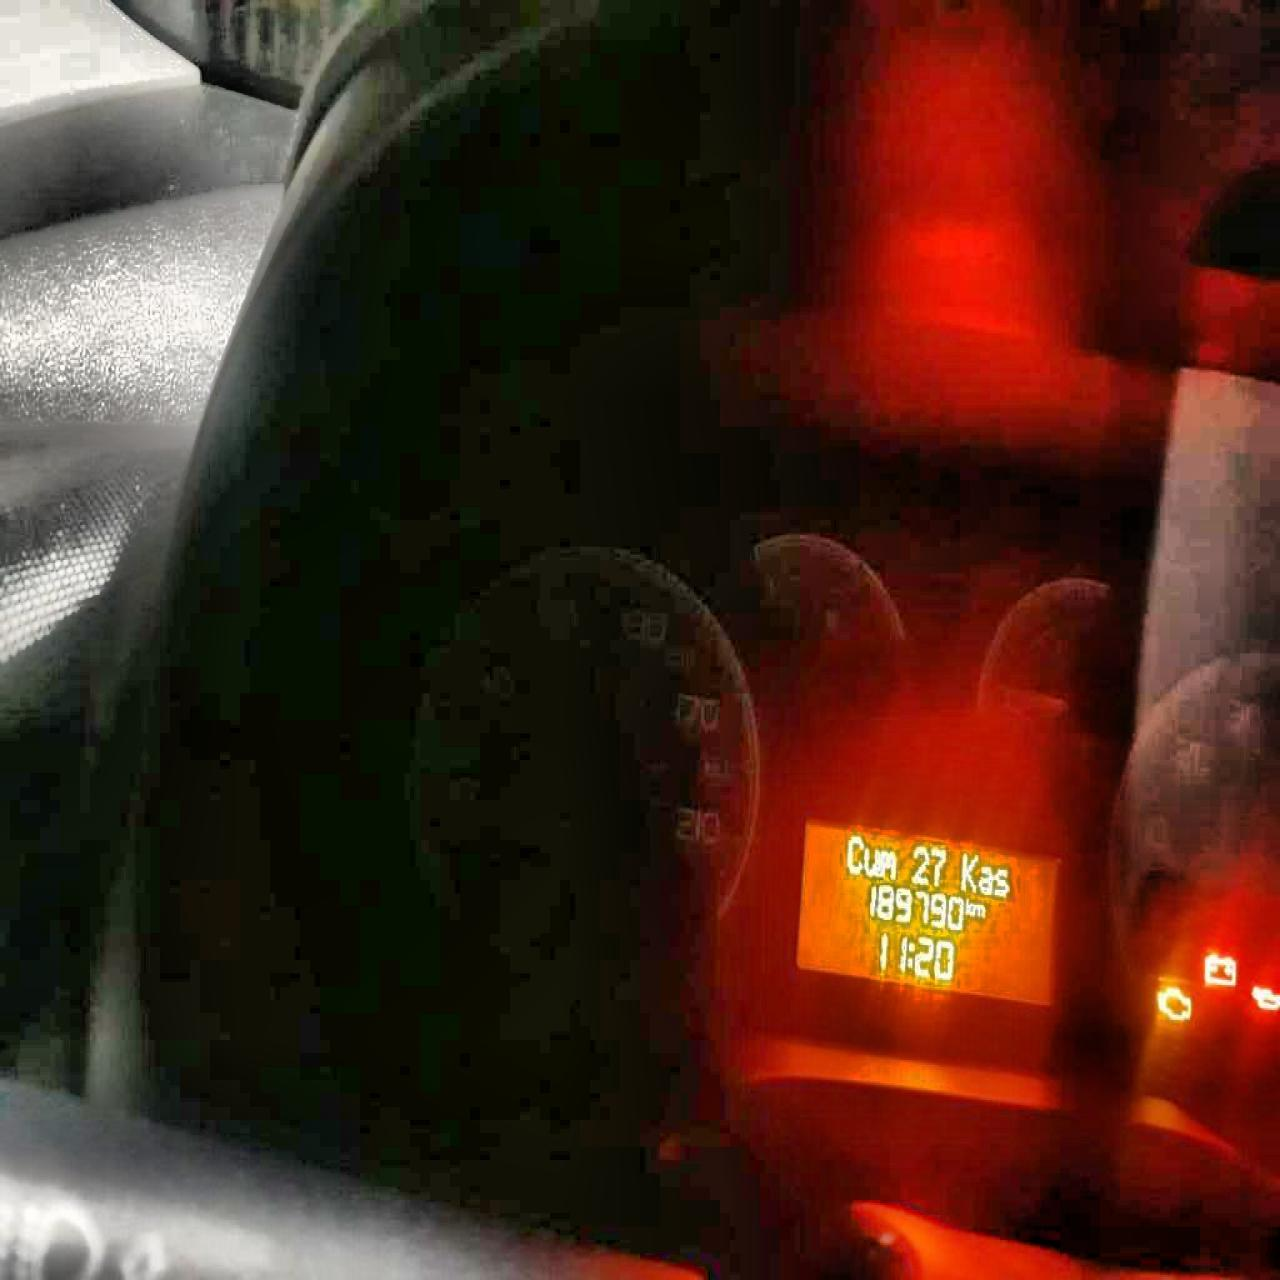0: (933, 938, 953, 980), (945, 893, 964, 930)
1: (878, 930, 887, 971), (898, 935, 907, 972), (869, 884, 877, 917)
2: (912, 935, 933, 976), (910, 843, 930, 885)
7: (928, 845, 946, 885), (913, 888, 928, 924)
8: (877, 884, 892, 919)
9: (893, 886, 911, 921), (928, 892, 946, 926)
X: (845, 833, 865, 873), (959, 850, 978, 892), (976, 863, 993, 894), (863, 845, 880, 874), (993, 866, 1009, 897), (880, 849, 896, 878), (905, 939, 915, 968), (971, 900, 985, 918), (964, 894, 972, 918)
odometer: (790, 812, 1065, 1010)
